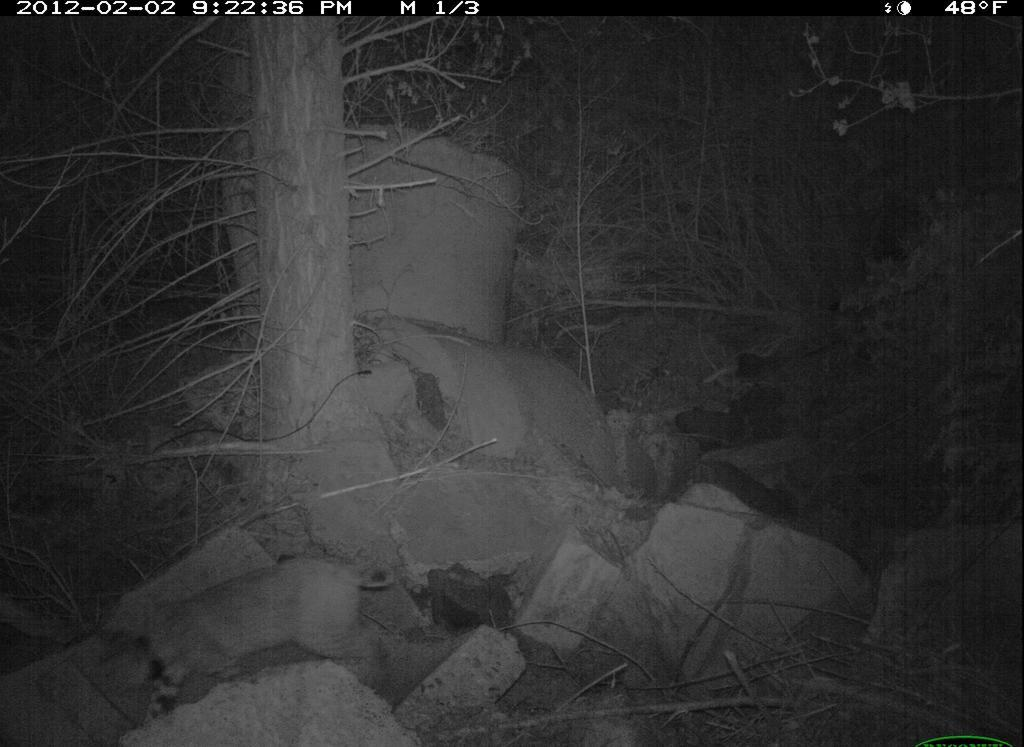bobcat: (82, 543, 405, 726)
